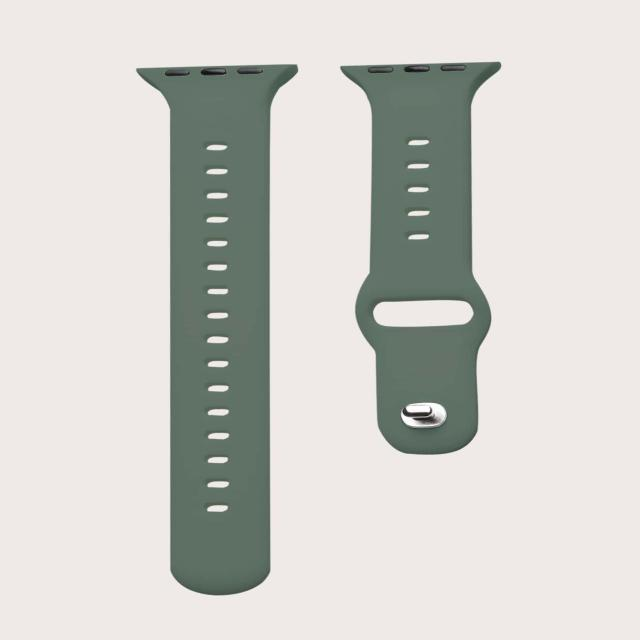bracelet: (100, 8, 640, 619)
